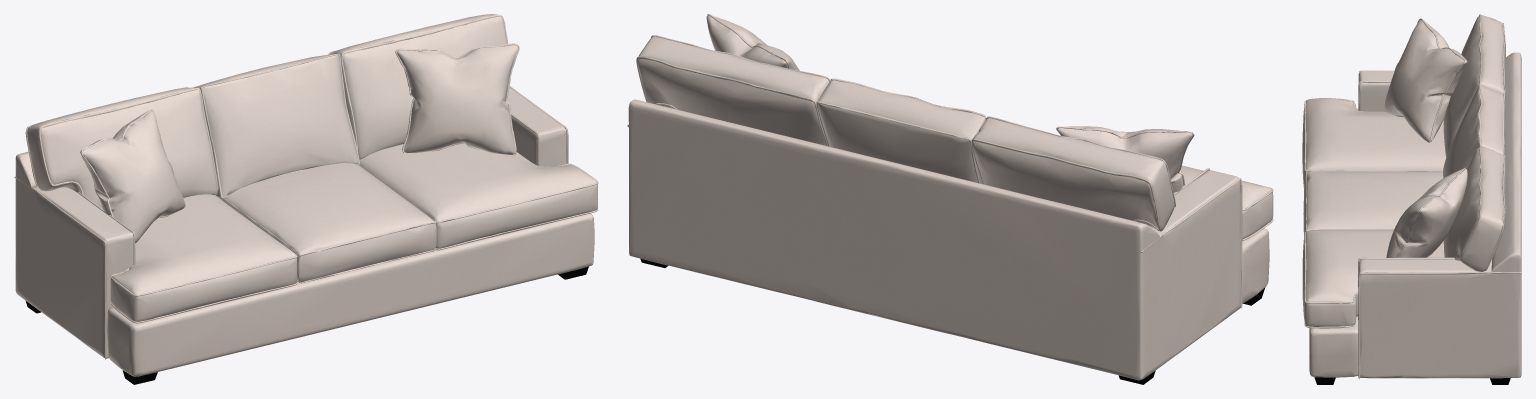
File: CSTM2191.obj
3 views of the same model, side by side, from view 1: azimuth 30°, elevation 25°; view 2: azimuth 150°, elevation 25°; view 3: azimuth 270°, elevation 25° (orthographic). The views are drawn at different scales.
Parts seen in each view (by area): view 1: not_clear_obj_0_v6, not_clear_obj_1_v6; view 2: not_clear_obj_0_v6; view 3: not_clear_obj_0_v6, not_clear_obj_1_v6.
Boxes of the visible parts, x1,y1,x2,y2 form: not_clear_obj_0_v6: (14,14,598,376); not_clear_obj_1_v6: (25,266,588,384); not_clear_obj_0_v6: (627,14,1273,380); not_clear_obj_0_v6: (1302,14,1521,378); not_clear_obj_1_v6: (1314,377,1510,384).
Size of what is drawn, in the model's own units: 219 by 86.43 by 99.05.
